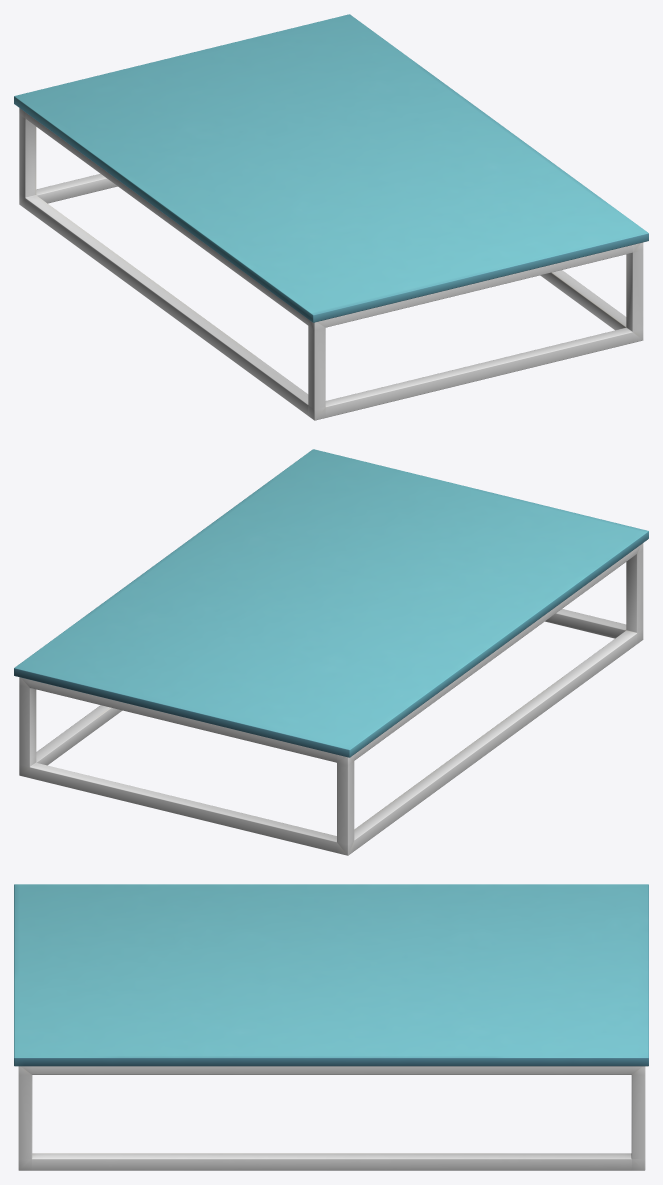
File: EE_CenterTable01.gltf
3 renders of one model, top to bottom at view 1: azimuth 30°, elevation 25°; view 2: azimuth 150°, elevation 25°; view 3: azimuth 270°, elevation 25°, orthographic. The views are drawn at different scales.
Visible parts, largest first — view 1: EE_CenterTable01.001; view 2: EE_CenterTable01.001; view 3: EE_CenterTable01.001.
Part boxes in pixels (x1,y1,x2,y2): EE_CenterTable01.001: (14,14,648,420); EE_CenterTable01.001: (14,449,648,855); EE_CenterTable01.001: (14,884,648,1170).
Size of what is drawn, in the model's own units: 0.8928 by 0.2745 by 1.38.
2 materials, 2 textured.
